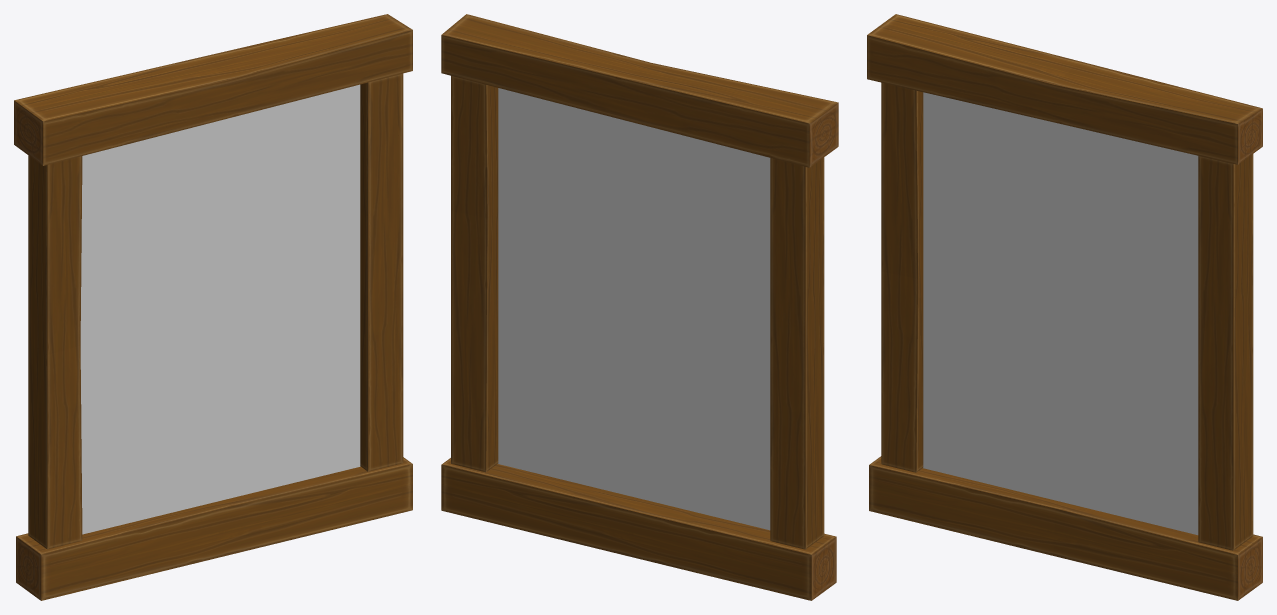
The model's file is SM_House_Window_A.fbx.
The picture shows the model from 3 angles, left to right: view 1: azimuth 30°, elevation 25°; view 2: azimuth 150°, elevation 25°; view 3: azimuth 330°, elevation 25°; orthographic projection.
Parts seen in each view (by area): view 1: SM_House_Window_A; view 2: SM_House_Window_A; view 3: SM_House_Window_A.
Boxes of the visible parts, left/top/right/bottom form: SM_House_Window_A: left=14, top=14, right=412, bottom=600; SM_House_Window_A: left=441, top=14, right=838, bottom=600; SM_House_Window_A: left=867, top=14, right=1262, bottom=600.
Bounding box in the file's own units: 1.51 × 1.87 × 0.2044.
